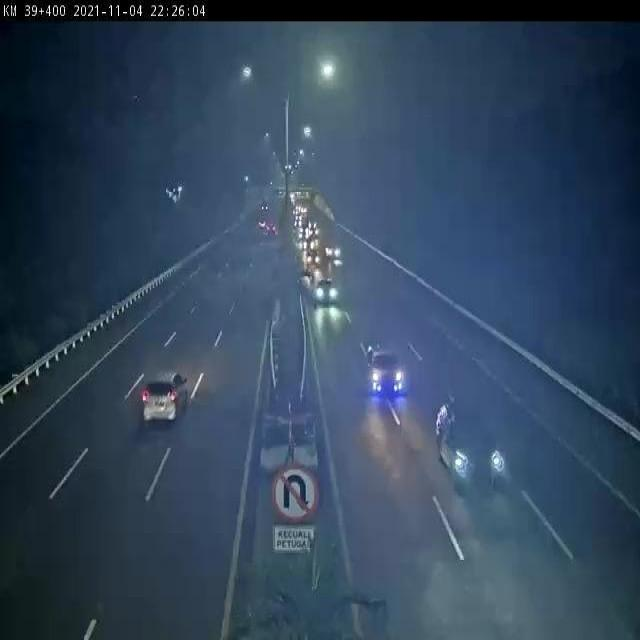car: (439, 400, 511, 500), (138, 365, 195, 423), (369, 329, 409, 408), (317, 278, 347, 306), (327, 245, 345, 267), (307, 249, 321, 268), (141, 492, 142, 493)
